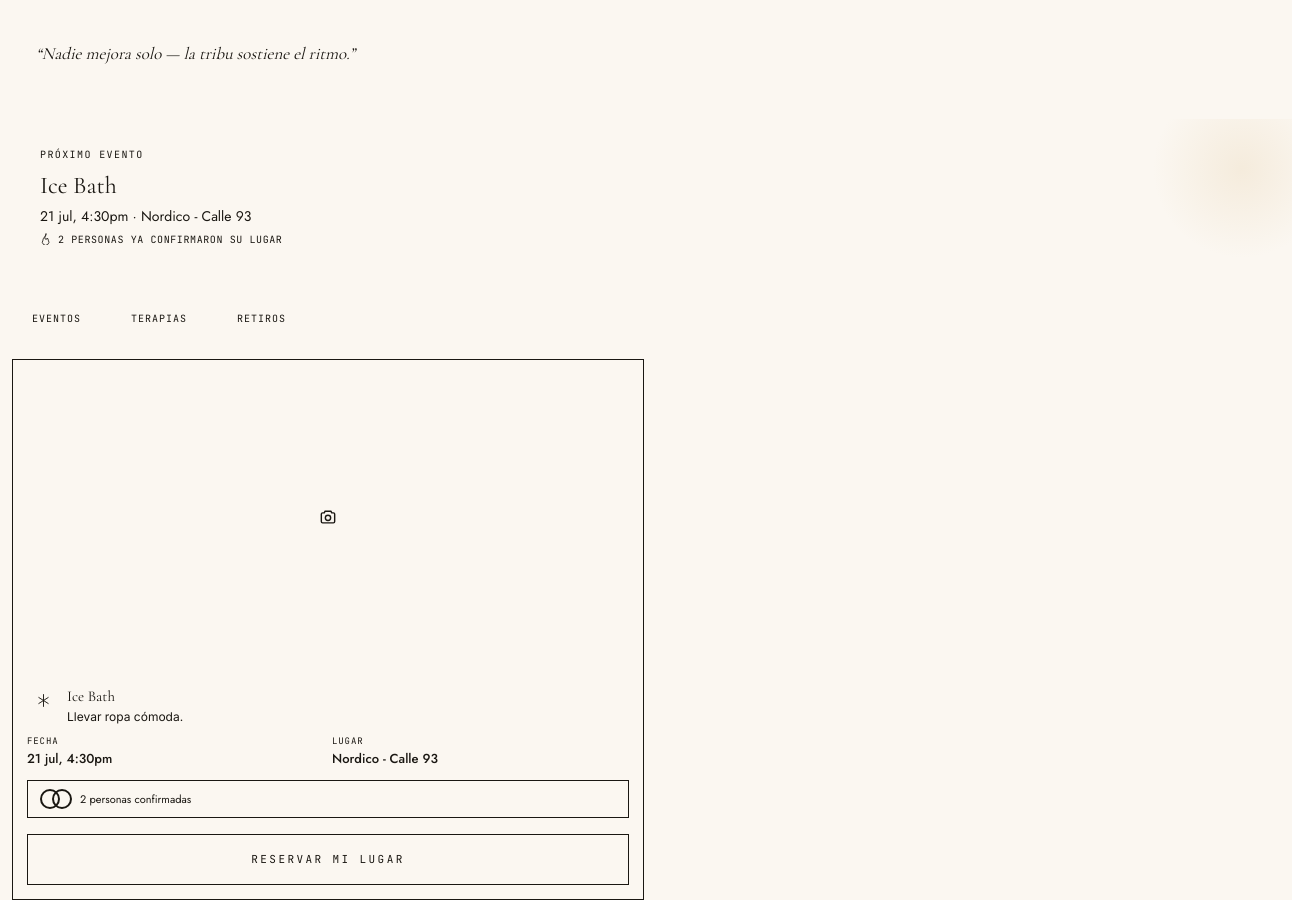
Test case: ClientCommunityPanel › reserves an event and flips the button to cancel
The image size is (1292, 900).
(page scrolled)
Click the button "Reservar mi lugar". click: (328, 859)
box: [27, 834, 629, 884]
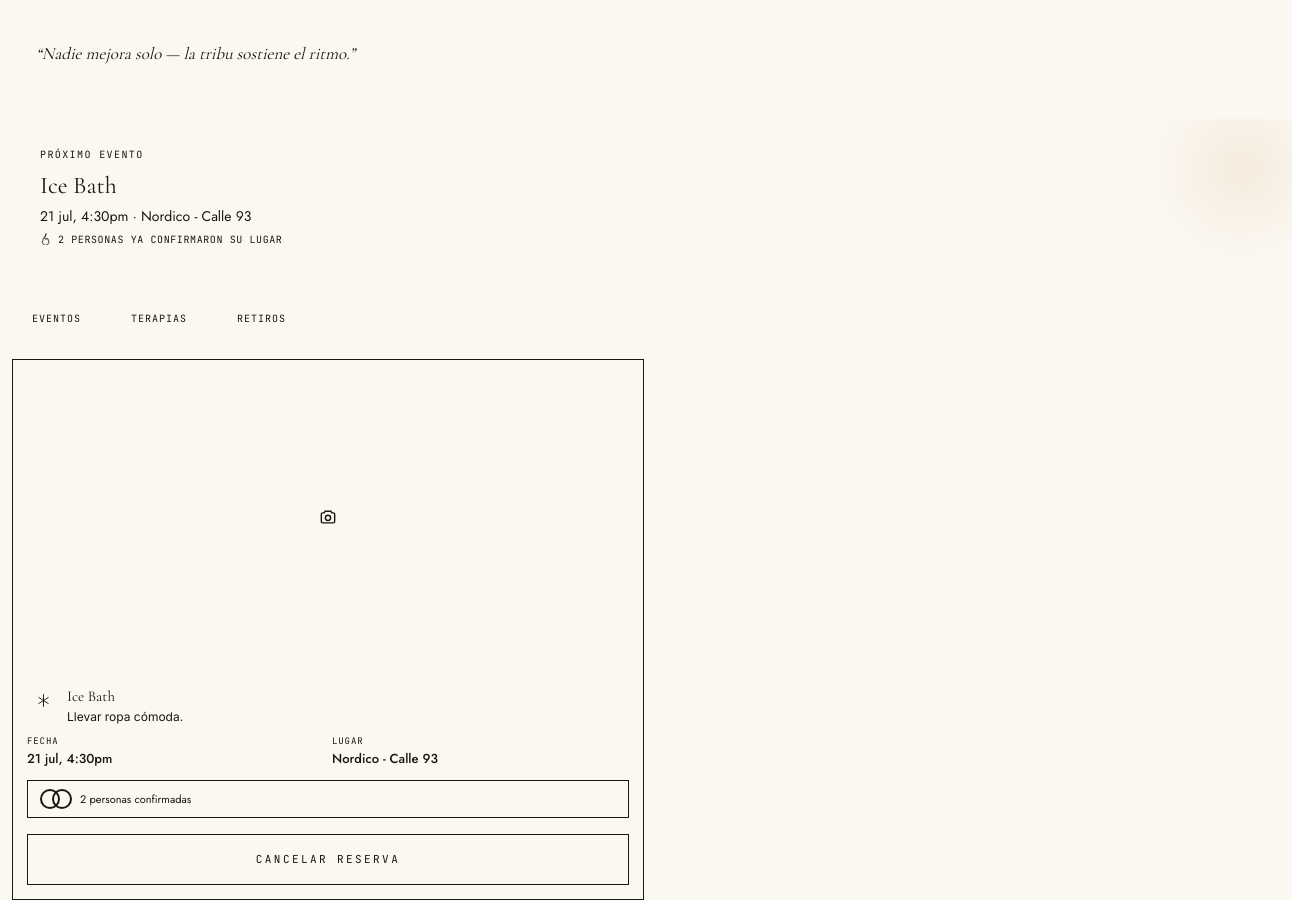
Now the button "Cancelar reserva" is shown, box [27, 834, 629, 884]
